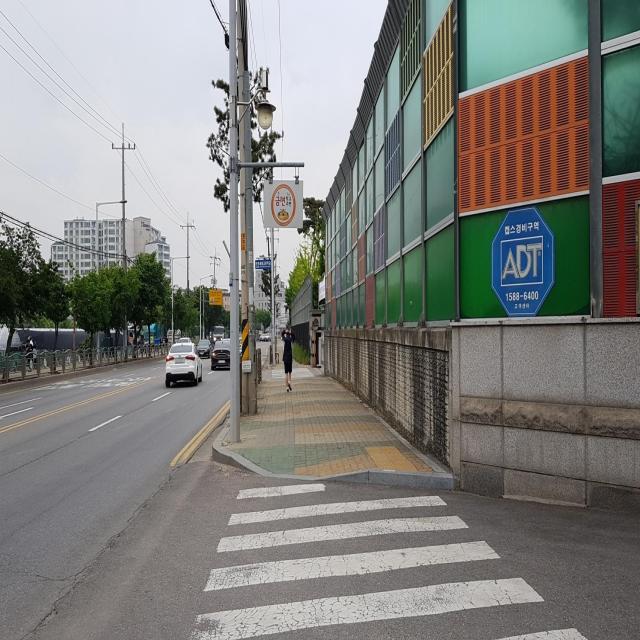횡단보도: (188, 477, 589, 640)
